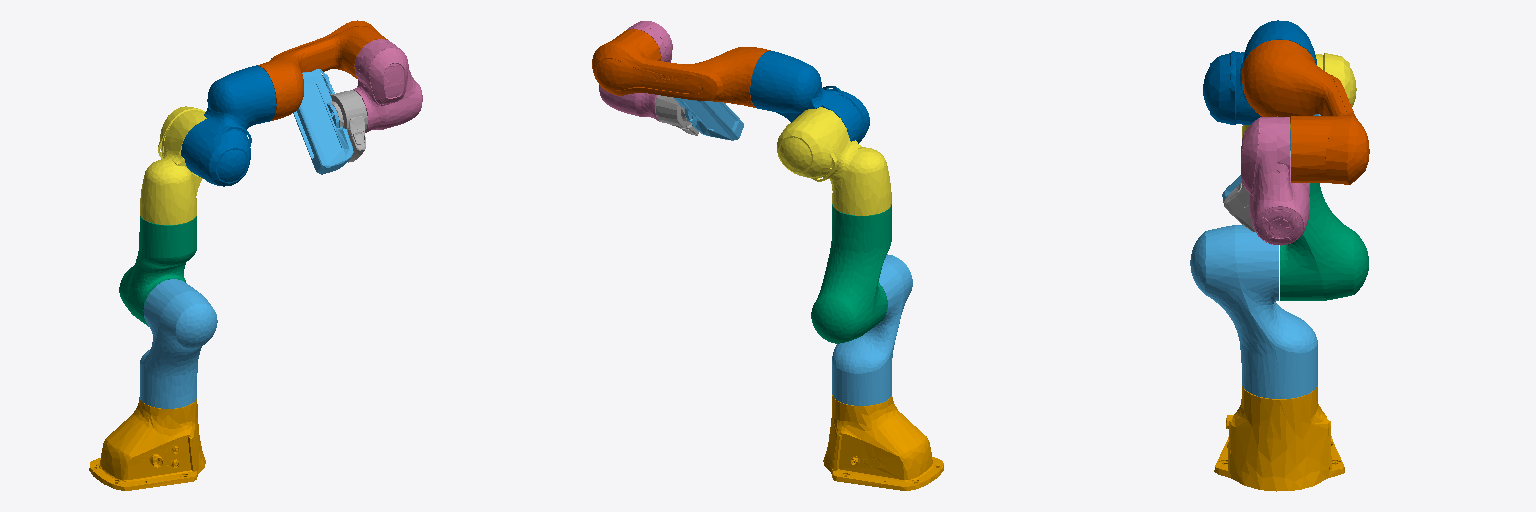
The robot description file, URDF, robot "panda":
<?xml version="1.0" encoding="utf-8"?>
<!-- =================================================================================== -->
<!-- |    This document was autogenerated by xacro from panda_arm_hand.urdf.xacro      | -->
<!-- |    EDITING THIS FILE BY HAND IS NOT RECOMMENDED                                 | -->
<!-- =================================================================================== -->
<robot name="panda">
  <link name="panda_link0">
    <visual>
      <geometry>
        <mesh filename="visual/link0.stl"/>
      </geometry>
    </visual>
    <collision>
      <origin rpy="0 1.57079632679 0" xyz="-0.075 0 0.06"/>
      <geometry>
        <cylinder length="0.03" radius="0.09"/>
      </geometry>
    </collision>
    <collision>
      <origin rpy="0 0 0" xyz="-0.06 0 0.06"/>
      <geometry>
        <sphere radius="0.09"/>
      </geometry>
    </collision>
    <collision>
      <origin rpy="0 0 0" xyz="-0.09 0 0.06"/>
      <geometry>
        <sphere radius="0.09"/>
      </geometry>
    </collision>
  </link>
  <link name="panda_link1">
    <visual>
      <geometry>
        <mesh filename="visual/link1.stl"/>
      </geometry>
    </visual>
    <collision>
      <origin rpy="0 0 0" xyz="0 0 -0.1915"/>
      <geometry>
        <cylinder length="0.2830" radius="0.09"/>
      </geometry>
    </collision>
    <collision>
      <origin rpy="0 0 0" xyz="0 0 -0.333"/>
      <geometry>
        <sphere radius="0.09"/>
      </geometry>
    </collision>
    <collision>
      <origin rpy="0 0 0" xyz="0 0 -0.05"/>
      <geometry>
        <sphere radius="0.09"/>
      </geometry>
    </collision>
  </link>
  <joint name="panda_joint1" type="revolute">
    <safety_controller k_position="100.0" k_velocity="40.0" soft_lower_limit="-2.8973" soft_upper_limit="2.8973"/>
    <origin rpy="0 0 0" xyz="0 0 0.333"/>
    <parent link="panda_link0"/>
    <child link="panda_link1"/>
    <axis xyz="0 0 1"/>
    <limit effort="87" lower="-2.8973" upper="2.8973" velocity="2.1750"/>
  </joint>
  <link name="panda_link2">
    <visual>
      <geometry>
        <mesh filename="visual/link2.stl"/>
      </geometry>
    </visual>
    <collision>
      <origin rpy="0 0 0" xyz="0 0 0"/>
      <geometry>
        <cylinder length="0.12" radius="0.09"/>
      </geometry>
    </collision>
    <collision>
      <origin rpy="0 0 0" xyz="0 0 -0.06"/>
      <geometry>
        <sphere radius="0.09"/>
      </geometry>
    </collision>
    <collision>
      <origin rpy="0 0 0" xyz="0 0 0.06"/>
      <geometry>
        <sphere radius="0.09"/>
      </geometry>
    </collision>
  </link>
  <joint name="panda_joint2" type="revolute">
    <safety_controller k_position="100.0" k_velocity="40.0" soft_lower_limit="-1.7628" soft_upper_limit="1.7628"/>
    <origin rpy="-1.57079632679 0 0" xyz="0 0 0"/>
    <parent link="panda_link1"/>
    <child link="panda_link2"/>
    <axis xyz="0 0 1"/>
    <limit effort="87" lower="-1.7628" upper="1.7628" velocity="2.1750"/>
  </joint>
  <link name="panda_link3">
    <visual>
      <geometry>
        <mesh filename="visual/link3.stl"/>
      </geometry>
    </visual>
    <collision>
      <origin rpy="0 0 0" xyz="0 0 -0.145"/>
      <geometry>
        <cylinder length="0.15" radius="0.09"/>
      </geometry>
    </collision>
    <collision>
      <origin rpy="0 0 0" xyz="0 0 -0.22"/>
      <geometry>
        <sphere radius="0.09"/>
      </geometry>
    </collision>
    <collision>
      <origin rpy="0 0 0" xyz="0 0 -0.07"/>
      <geometry>
        <sphere radius="0.09"/>
      </geometry>
    </collision>
  </link>
  <joint name="panda_joint3" type="revolute">
    <safety_controller k_position="100.0" k_velocity="40.0" soft_lower_limit="-2.8973" soft_upper_limit="2.8973"/>
    <origin rpy="1.57079632679 0 0" xyz="0 -0.316 0"/>
    <parent link="panda_link2"/>
    <child link="panda_link3"/>
    <axis xyz="0 0 1"/>
    <limit effort="87" lower="-2.8973" upper="2.8973" velocity="2.1750"/>
  </joint>
  <link name="panda_link4">
    <visual>
      <geometry>
        <mesh filename="visual/link4.stl"/>
      </geometry>
    </visual>
    <collision>
      <origin rpy="0 0 0" xyz="0 0 0"/>
      <geometry>
        <cylinder length="0.12" radius="0.09"/>
      </geometry>
    </collision>
    <collision>
      <origin rpy="0 0 0" xyz="0 0 0.06"/>
      <geometry>
        <sphere radius="0.09"/>
      </geometry>
    </collision>
    <collision>
      <origin rpy="0 0 0" xyz="0 0 -0.06"/>
      <geometry>
        <sphere radius="0.09"/>
      </geometry>
    </collision>
  </link>
  <joint name="panda_joint4" type="revolute">
    <safety_controller k_position="100.0" k_velocity="40.0" soft_lower_limit="-3.0718" soft_upper_limit="-0.0698"/>
    <origin rpy="1.57079632679 0 0" xyz="0.0825 0 0"/>
    <parent link="panda_link3"/>
    <child link="panda_link4"/>
    <axis xyz="0 0 1"/>
    <limit effort="87" lower="-3.0718" upper="-0.0698" velocity="2.1750"/>
  </joint>
  <link name="panda_link5">
    <visual>
      <geometry>
        <mesh filename="visual/link5.stl"/>
      </geometry>
    </visual>
    <collision>
      <origin rpy="0 0 0" xyz="0 0 -0.26"/>
      <geometry>
        <cylinder length="0.1" radius="0.09"/>
      </geometry>
    </collision>
    <collision>
      <origin rpy="0 0 0" xyz="0 0 -0.31"/>
      <geometry>
        <sphere radius="0.09"/>
      </geometry>
    </collision>
    <collision>
      <origin rpy="0 0 0" xyz="0 0 -0.21"/>
      <geometry>
        <sphere radius="0.09"/>
      </geometry>
    </collision>
    <collision>
      <origin rpy="0 0 0" xyz="0 0.08 -0.13"/>
      <geometry>
        <cylinder length="0.14" radius="0.055"/>
      </geometry>
    </collision>
    <collision>
      <origin rpy="0 0 0" xyz="0 0.08 -0.06"/>
      <geometry>
        <sphere radius="0.055"/>
      </geometry>
    </collision>
    <collision>
      <origin rpy="0 0 0" xyz="0 0.08 -0.20"/>
      <geometry>
        <sphere radius="0.055"/>
      </geometry>
    </collision>
  </link>
  <joint name="panda_joint5" type="revolute">
    <safety_controller k_position="100.0" k_velocity="40.0" soft_lower_limit="-2.8973" soft_upper_limit="2.8973"/>
    <origin rpy="-1.57079632679 0 0" xyz="-0.0825 0.384 0"/>
    <parent link="panda_link4"/>
    <child link="panda_link5"/>
    <axis xyz="0 0 1"/>
    <limit effort="12" lower="-2.8973" upper="2.8973" velocity="2.6100"/>
  </joint>
  <link name="panda_link6">
    <visual>
      <geometry>
        <mesh filename="visual/link6.stl"/>
      </geometry>
    </visual>
    <collision>
      <origin rpy="0 0 0" xyz="0 0 -0.03"/>
      <geometry>
        <cylinder length="0.08" radius="0.08"/>
      </geometry>
    </collision>
    <collision>
      <origin rpy="0 0 0" xyz="0 0 0.01"/>
      <geometry>
        <sphere radius="0.08"/>
      </geometry>
    </collision>
    <collision>
      <origin rpy="0 0 0" xyz="0 0 -0.07"/>
      <geometry>
        <sphere radius="0.08"/>
      </geometry>
    </collision>
  </link>
  <joint name="panda_joint6" type="revolute">
    <safety_controller k_position="100.0" k_velocity="40.0" soft_lower_limit="-0.0175" soft_upper_limit="3.7525"/>
    <origin rpy="1.57079632679 0 0" xyz="0 0 0"/>
    <parent link="panda_link5"/>
    <child link="panda_link6"/>
    <axis xyz="0 0 1"/>
    <limit effort="12" lower="-0.0175" upper="3.7525" velocity="2.6100"/>
  </joint>
  <link name="panda_link7">
    <visual>
      <geometry>
        <mesh filename="visual/link7.stl"/>
      </geometry>
    </visual>
    <collision>
      <origin rpy="0 0 0" xyz="0 0 0.01"/>
      <geometry>
        <cylinder length="0.14" radius="0.07"/>
      </geometry>
    </collision>
    <collision>
      <origin rpy="0 0 0" xyz="0 0 0.08"/>
      <geometry>
        <sphere radius="0.07"/>
      </geometry>
    </collision>
    <collision>
      <origin rpy="0 0 0" xyz="0 0 -0.06"/>
      <geometry>
        <sphere radius="0.07"/>
      </geometry>
    </collision>
  </link>
  <joint name="panda_joint7" type="revolute">
    <safety_controller k_position="100.0" k_velocity="40.0" soft_lower_limit="-2.8973" soft_upper_limit="2.8973"/>
    <origin rpy="1.57079632679 0 0" xyz="0.088 0 0"/>
    <parent link="panda_link6"/>
    <child link="panda_link7"/>
    <axis xyz="0 0 1"/>
    <limit effort="12" lower="-2.8973" upper="2.8973" velocity="2.6100"/>
  </joint>
  <link name="panda_link8">
    <collision>
      <origin rpy="3.14159265359 1.57079632679 1.57079632679" xyz="0.0424 0.0424 -0.0250"/>
      <geometry>
        <cylinder length="0.01" radius="0.06"/>
      </geometry>
    </collision>
    <collision>
      <origin rpy="0 0 0" xyz="0.0424 0.0424 -0.02"/>
      <geometry>
        <sphere radius="0.06"/>
      </geometry>
    </collision>
    <collision>
      <origin rpy="0 0 0" xyz="0.0424 0.0424 -0.03"/>
      <geometry>
        <sphere radius="0.06"/>
      </geometry>
    </collision>
  </link>
  <joint name="panda_joint8" type="fixed">
    <origin rpy="0 0 0" xyz="0 0 0.107"/>
    <parent link="panda_link7"/>
    <child link="panda_link8"/>
  </joint>
  <joint name="panda_hand_joint" type="fixed">
    <parent link="panda_link8"/>
    <child link="panda_hand"/>
    <origin rpy="0 0 -0.785398163397" xyz="0 0 0"/>
  </joint>
  <link name="panda_hand">
    <visual>
      <geometry>
        <mesh filename="visual/hand.stl"/>
      </geometry>
    </visual>
    <collision>
      <origin rpy="0 1.57079632679 1.57079632679" xyz="0 0 0.04"/>
      <geometry>
        <cylinder length="0.1" radius="0.07"/>
      </geometry>
    </collision>
    <collision>
      <origin rpy="0 0 0" xyz="0 -0.05 0.04"/>
      <geometry>
        <sphere radius="0.07"/>
      </geometry>
    </collision>
    <collision>
      <origin rpy="0 0 0" xyz="0 0.05 0.04"/>
      <geometry>
        <sphere radius="0.07"/>
      </geometry>
    </collision>
    <collision>
      <origin rpy="0 1.57079632679 1.57079632679" xyz="0 0 0.1"/>
      <geometry>
        <cylinder length="0.1" radius="0.05"/>
      </geometry>
    </collision>
    <collision>
      <origin rpy="0 0 0" xyz="0 -0.05 0.1"/>
      <geometry>
        <sphere radius="0.05"/>
      </geometry>
    </collision>
    <collision>
      <origin rpy="0 0 0" xyz="0 0.05 0.1"/>
      <geometry>
        <sphere radius="0.05"/>
      </geometry>
    </collision>
  </link>
  <link name="panda_leftfinger">
    <visual>
      <geometry>
        <mesh filename="visual/finger.stl"/>
      </geometry>
    </visual>
  </link>
  
  <link name ="TCP_link">
  </link>
  <link name="panda_rightfinger">
    <visual>
      <origin rpy="0 0 3.14159265359" xyz="0 0 0"/>
      <geometry>
        <mesh filename="visual/finger.stl"/>
      </geometry>
    </visual>
  </link>




  <joint name="panda_finger_joint1" type="fixed">
    <parent link="panda_hand"/>
    <child link="panda_leftfinger"/>
    <origin rpy="0 0 0" xyz="0 0.0165 0.0584"/>
<!--     <axis xyz="0 1 0"/>
    <limit effort="20" lower="0.0" upper="0.04" velocity="0.2"/> -->
  </joint>
  <joint name="panda_finger_joint2" type="fixed">
    <parent link="panda_hand"/>
    <child link="panda_rightfinger"/>
    <origin rpy="0 0 0" xyz="0 -0.0165 0.0584"/>
<!--     <axis xyz="0 -1 0"/>
    <limit effort="20" lower="0.0" upper="0.04" velocity="0.2"/>
    <mimic joint="panda_finger_joint1"/> -->
  </joint>

    <joint name="TCP" type="fixed">
    <origin rpy="0 0 0" xyz="0 0 0.07"/>
    <parent link="panda_hand"/>
    <child link="TCP_link"/>
  </joint>

  
<!-- 
    <origin rpy="0 0 0" xyz="0 0 0.107"/>
    <parent link="panda_link7"/>
    <child link="panda_link8"/> -->

</robot>

--- Render facts (derived) ---
The picture shows the robot from 3 angles, left to right: view 1: azimuth 30°, elevation 25°; view 2: azimuth 150°, elevation 25°; view 3: azimuth 270°, elevation 25°; orthographic projection.
Model panda with 13 links and 12 joints (7 revolute, 5 fixed), rooted at panda_link0, posed joints at zero except 1 at the middle of their limits (panda_joint4 = -1.57).
Visible links, largest first — view 1: panda_link0, panda_link1, panda_link4, panda_link3, panda_link5, panda_link6, panda_link2, panda_hand, panda_link7; view 2: panda_link0, panda_link5, panda_link2, panda_link3, panda_link1, panda_link4, panda_hand, panda_link6, panda_link7; view 3: panda_link1, panda_link5, panda_link0, panda_link2, panda_link6, panda_link4, panda_link3, panda_link7.
Boxes of the visible links, x1=… form: panda_link0: x1=89, y1=397, x2=205, y2=490; panda_link1: x1=140, y1=279, x2=217, y2=408; panda_link4: x1=181, y1=65, x2=276, y2=186; panda_link3: x1=140, y1=106, x2=206, y2=224; panda_link5: x1=258, y1=20, x2=387, y2=120; panda_link6: x1=353, y1=38, x2=422, y2=132; panda_link2: x1=119, y1=216, x2=196, y2=326; panda_hand: x1=293, y1=69, x2=353, y2=174; panda_link7: x1=329, y1=90, x2=367, y2=162; panda_link0: x1=823, y1=395, x2=943, y2=490; panda_link5: x1=592, y1=29, x2=770, y2=108; panda_link2: x1=811, y1=204, x2=891, y2=343; panda_link3: x1=777, y1=107, x2=891, y2=215; panda_link1: x1=832, y1=254, x2=912, y2=405; panda_link4: x1=750, y1=51, x2=869, y2=143; panda_hand: x1=673, y1=97, x2=743, y2=140; panda_link6: x1=599, y1=21, x2=672, y2=121; panda_link7: x1=656, y1=95, x2=698, y2=135; panda_link1: x1=1190, y1=225, x2=1317, y2=398; panda_link5: x1=1242, y1=40, x2=1369, y2=184; panda_link0: x1=1214, y1=385, x2=1344, y2=491; panda_link2: x1=1280, y1=183, x2=1368, y2=300; panda_link6: x1=1241, y1=116, x2=1309, y2=245; panda_link4: x1=1203, y1=20, x2=1316, y2=124; panda_link3: x1=1242, y1=53, x2=1356, y2=137; panda_link7: x1=1224, y1=151, x2=1309, y2=231.
Bounding box of the posed robot: 0.7019 × 0.2596 × 0.7867 m (x, y, z).
9 mesh visuals loaded from 10 distinct referenced files (9 binary STL); not drawn: 2 (reference not matched to a file when rendering).